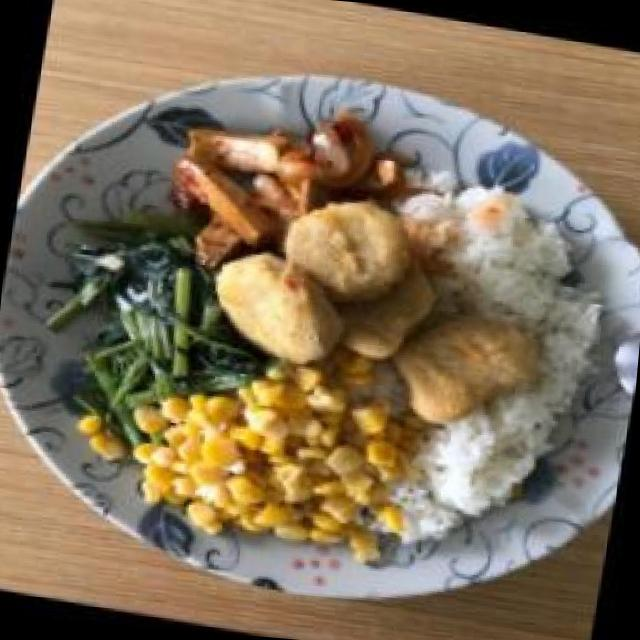chicken_nuggets: (198, 178, 556, 430)
rice: (392, 166, 632, 348)
water_spinach: (43, 221, 242, 400)
